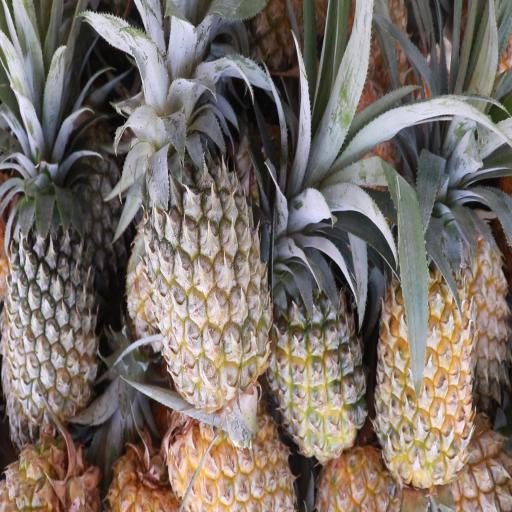------------------------------: (136, 73, 278, 414), (264, 215, 368, 467)
Pineapple - v8 v1: (372, 191, 480, 491), (166, 383, 299, 512)
